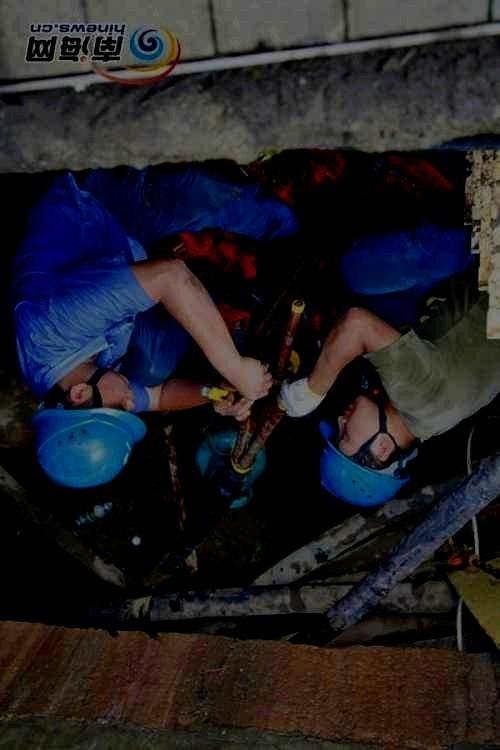helmet: (31, 369, 147, 489), (319, 394, 422, 507)
